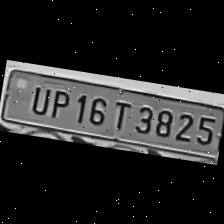1: (68, 88, 90, 122)
2: (170, 108, 196, 142)
3: (131, 101, 156, 135)
5: (191, 112, 218, 146)
6: (84, 91, 111, 126)
8: (150, 104, 176, 138)
P: (46, 84, 72, 119)
T: (107, 96, 134, 131)
U: (26, 80, 53, 115)
